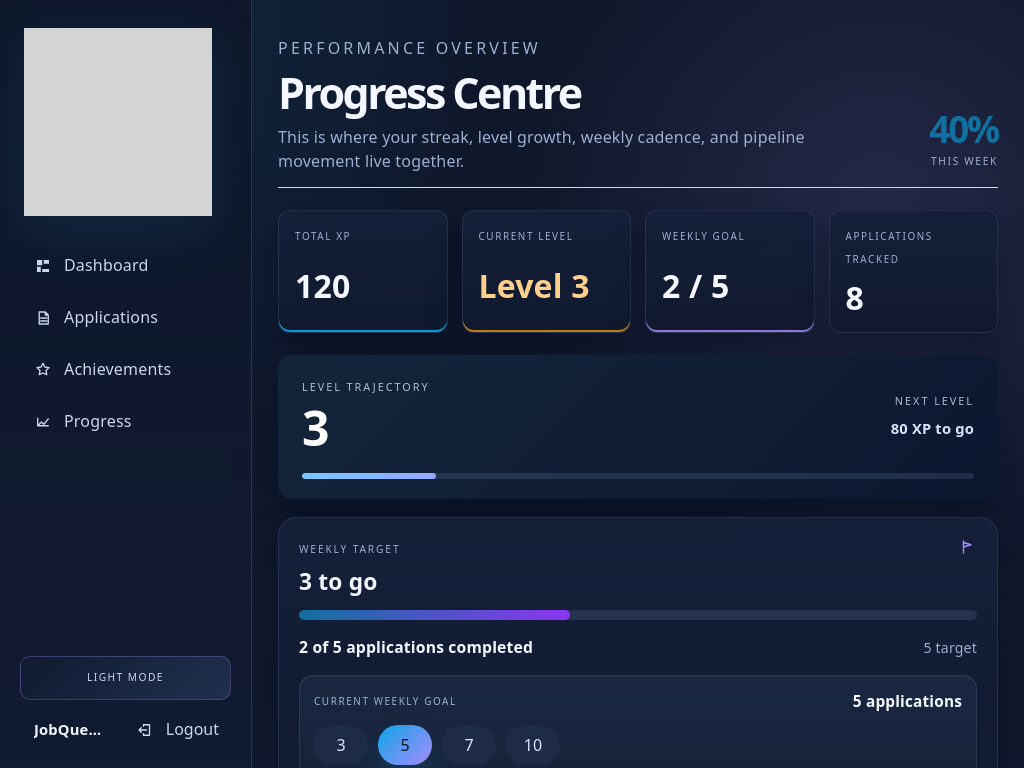
Scenario: ProgressPage weekly goal editor › allows the user to choose a new goal and save it through the API
This screenshot has width=1024, height=768.
Click the button "7" at (469, 745), box 442,725 -> 496,765
(page scrolled)
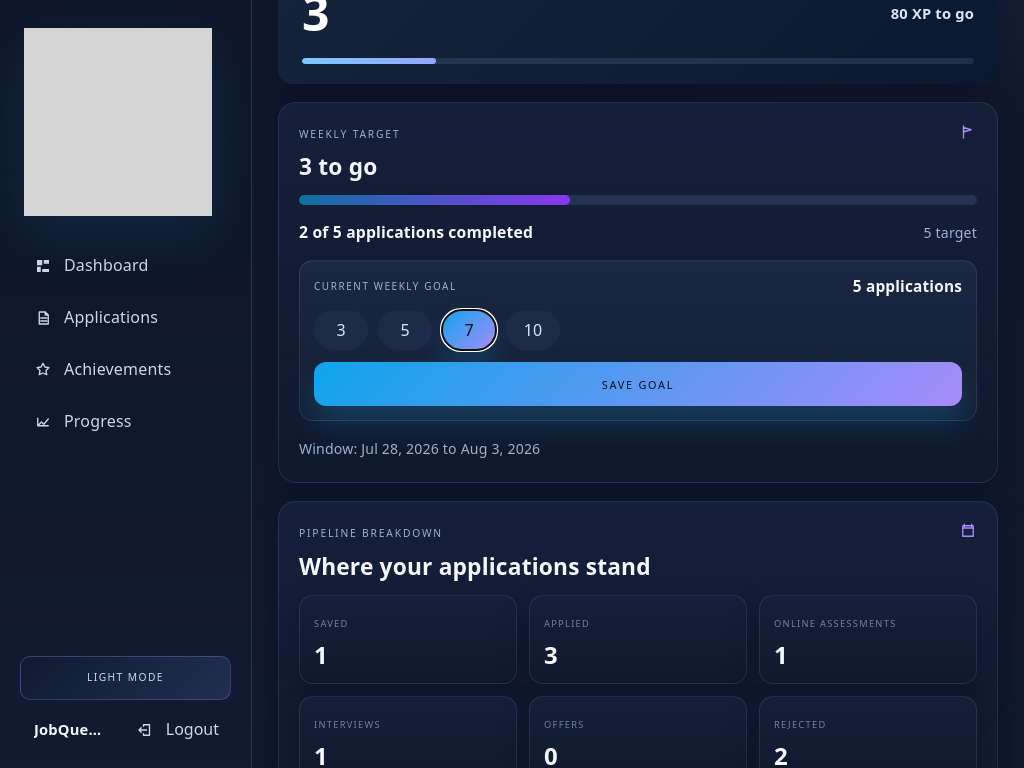
Click the button "Save goal" at (638, 384), box 314,362 -> 962,406
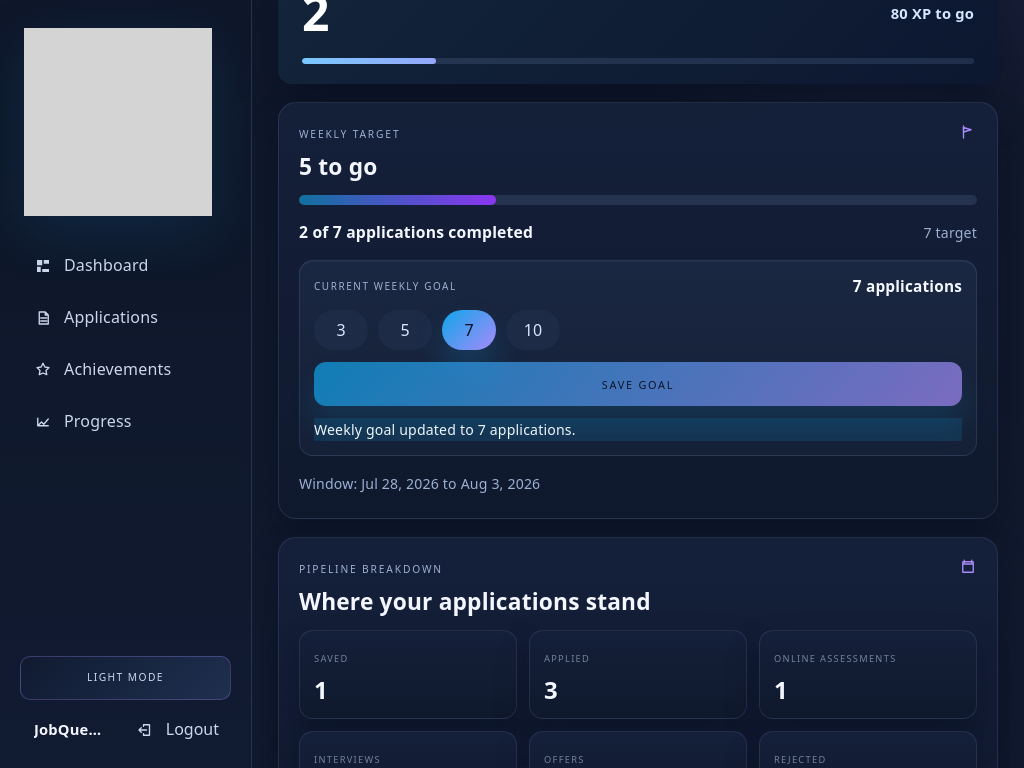
Now the text "Weekly goal updated to 7 applications." is shown, box 314,418 -> 962,442
Now the text "7 applications" is shown, box 853,275 -> 962,298
Now the text "2 of 7 applications completed" is shown, box 299,221 -> 533,244
